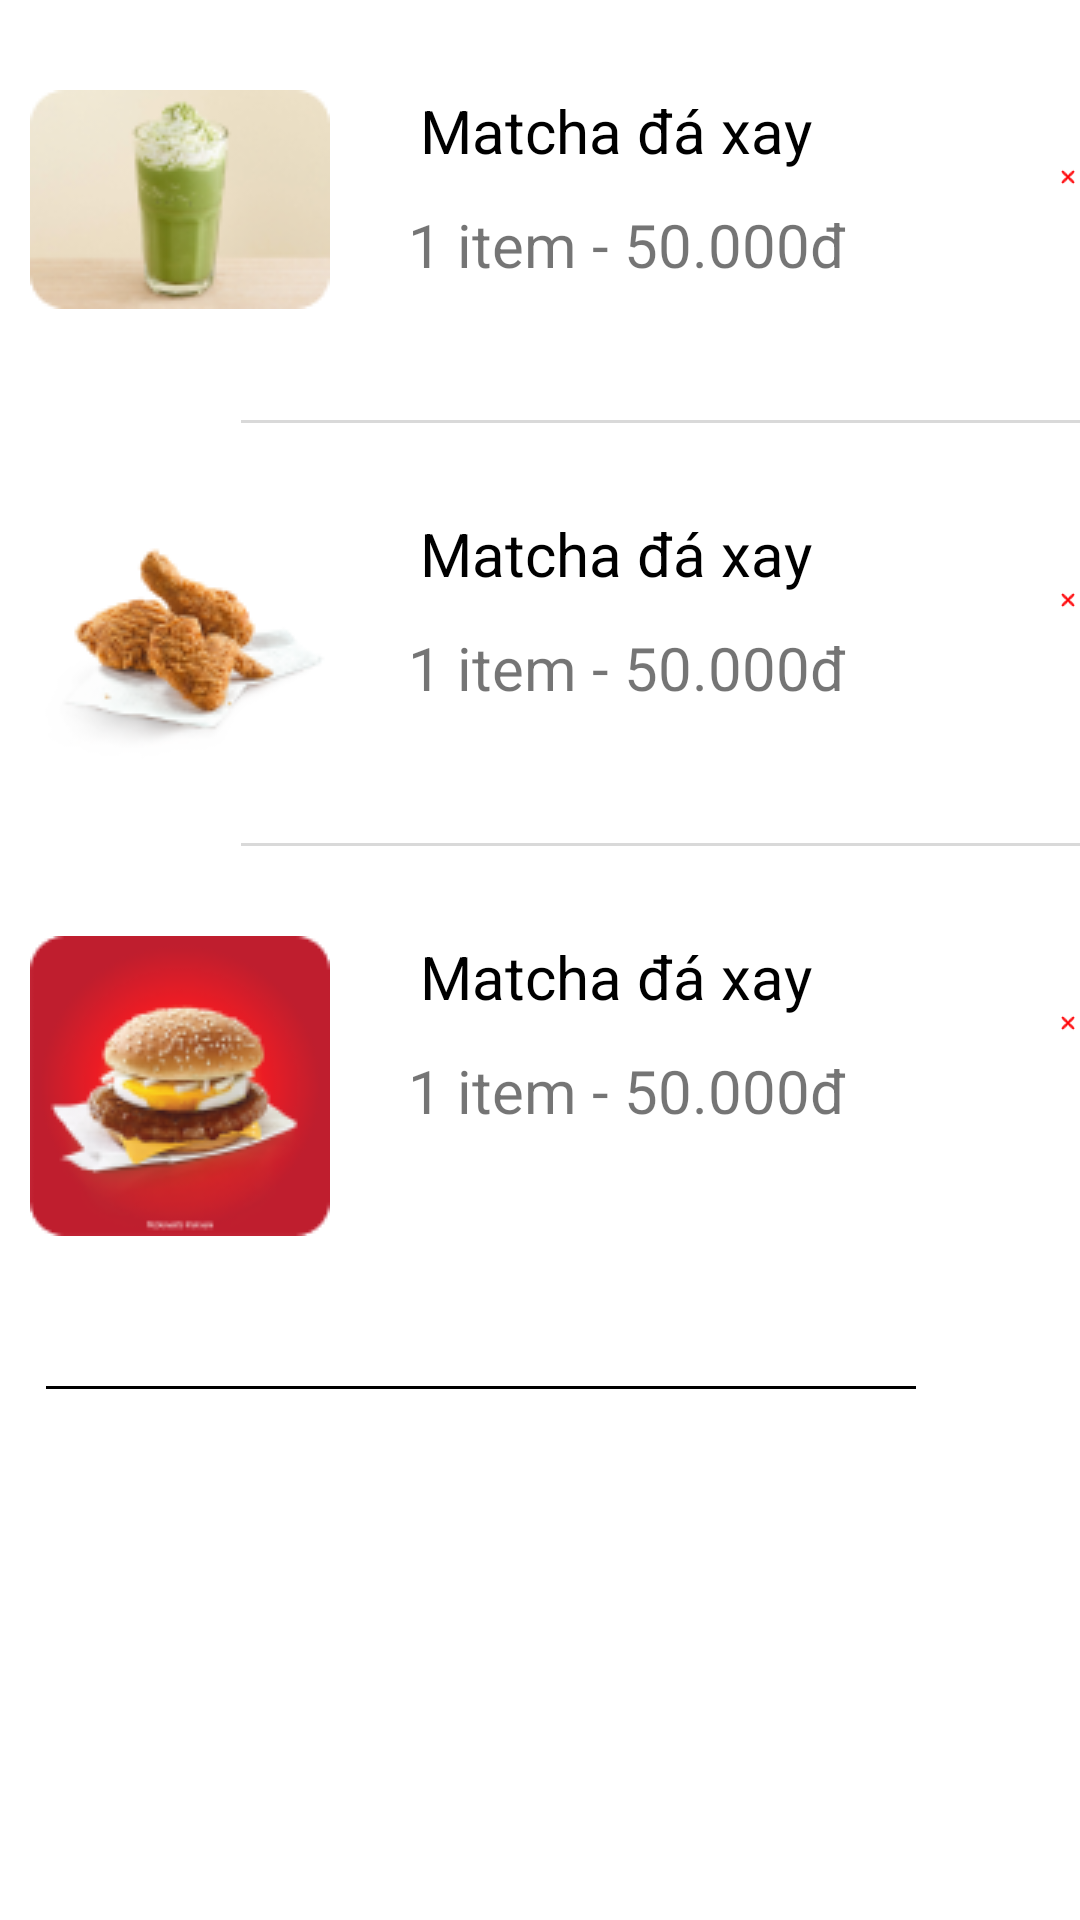

Named icons in this screenshot (1080x1920) and their centers, (x,y):
burger: (180,1086)
garan: (194,641)
